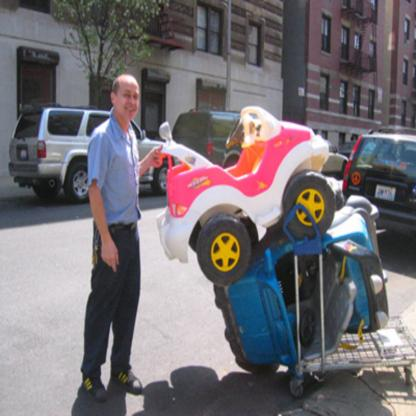Car: (8, 103, 177, 204), (343, 128, 416, 243)
